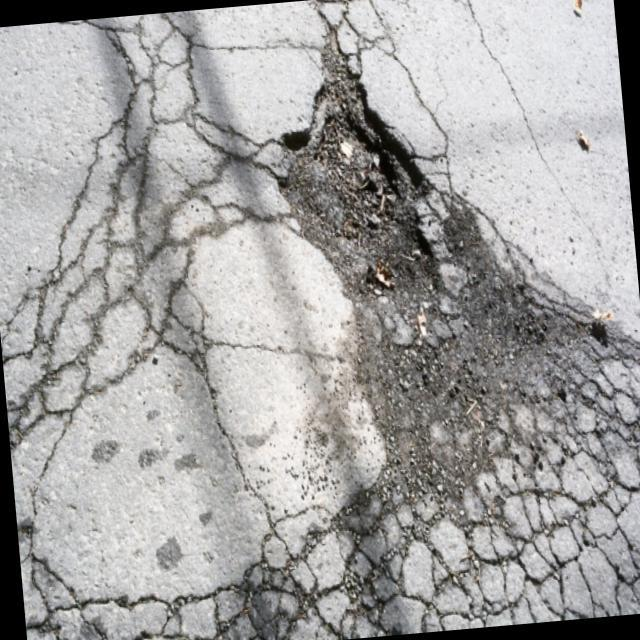Pothole: (213, 0, 627, 486)
